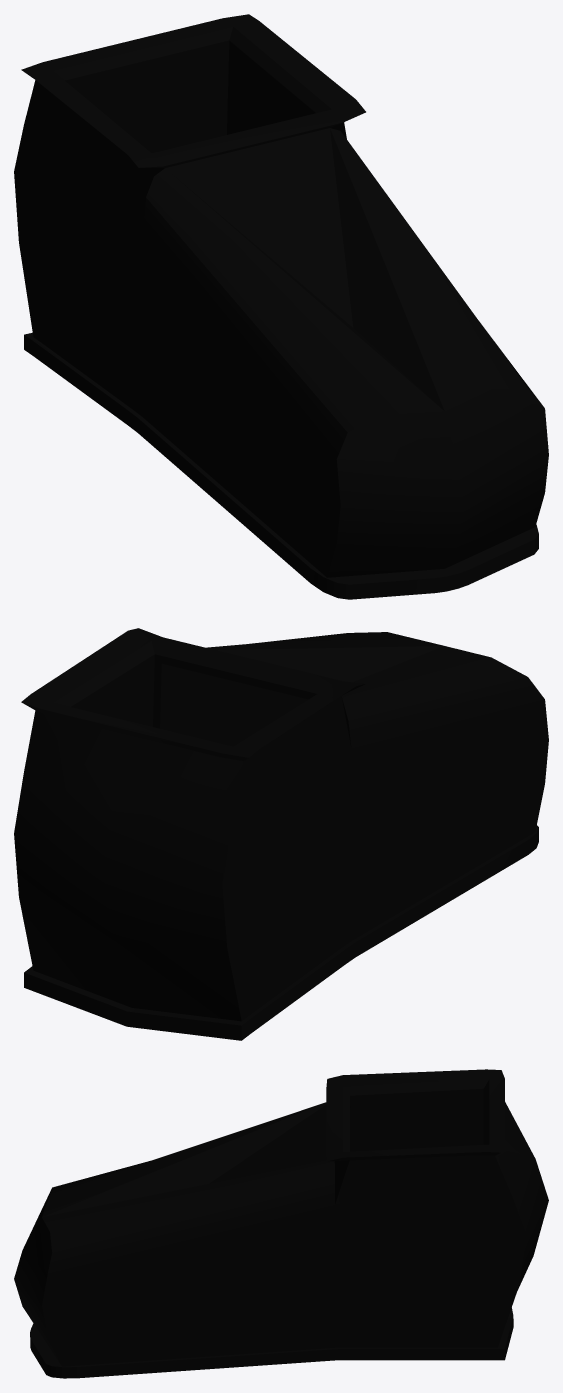
Rendered from Sepatu2.fbx.
The picture shows the model from 3 angles, top to bottom: view 1: azimuth 30°, elevation 25°; view 2: azimuth 150°, elevation 25°; view 3: azimuth 270°, elevation 25°; orthographic projection. The views are drawn at different scales.
Visible parts, largest first — view 1: Sepatu2_LOD0; view 2: Sepatu2_LOD0; view 3: Sepatu2_LOD0.
Part boxes in pixels (bbox=[...]): Sepatu2_LOD0: bbox=[14, 14, 548, 599]; Sepatu2_LOD0: bbox=[14, 628, 548, 1040]; Sepatu2_LOD0: bbox=[14, 1069, 548, 1378].
Size of what is drawn, in the model's own units: 21.23 by 28.16 by 58.18.
